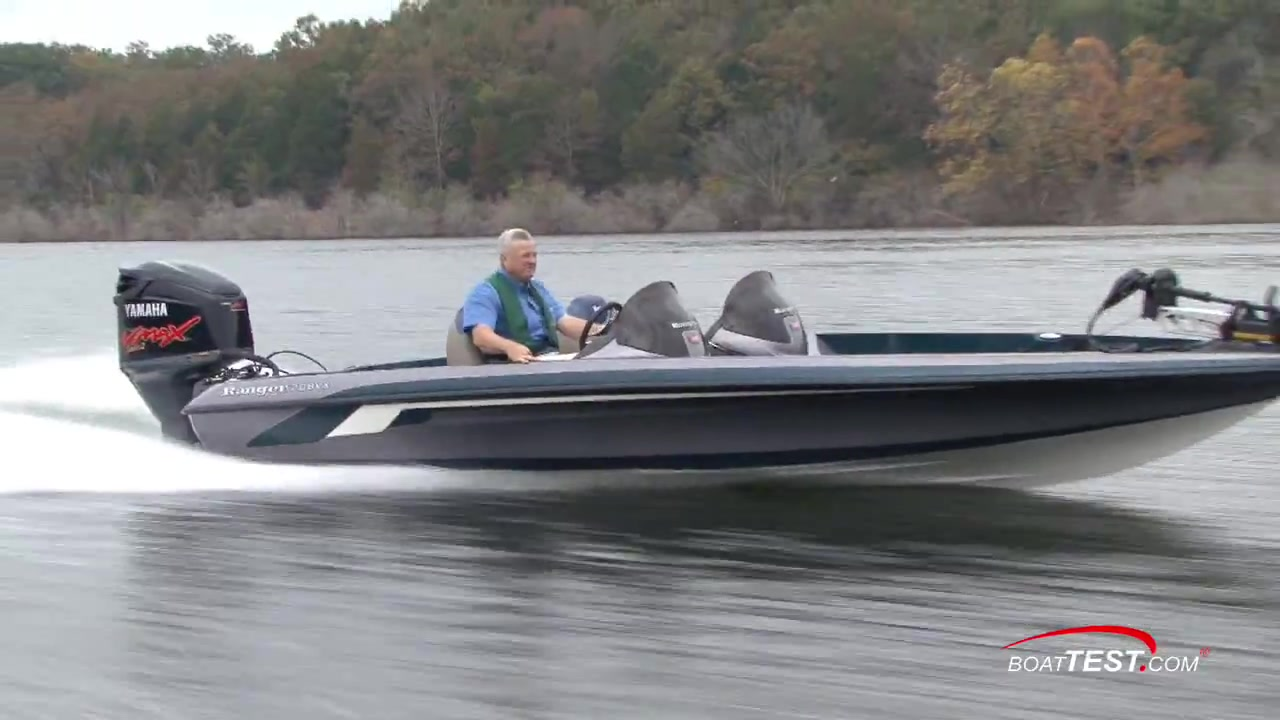boat: (116, 259, 1280, 512)
